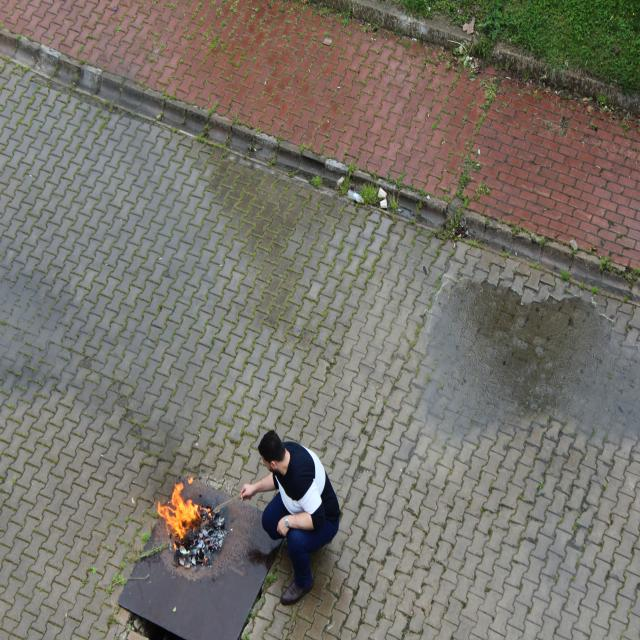fire: (153, 475, 204, 543)
